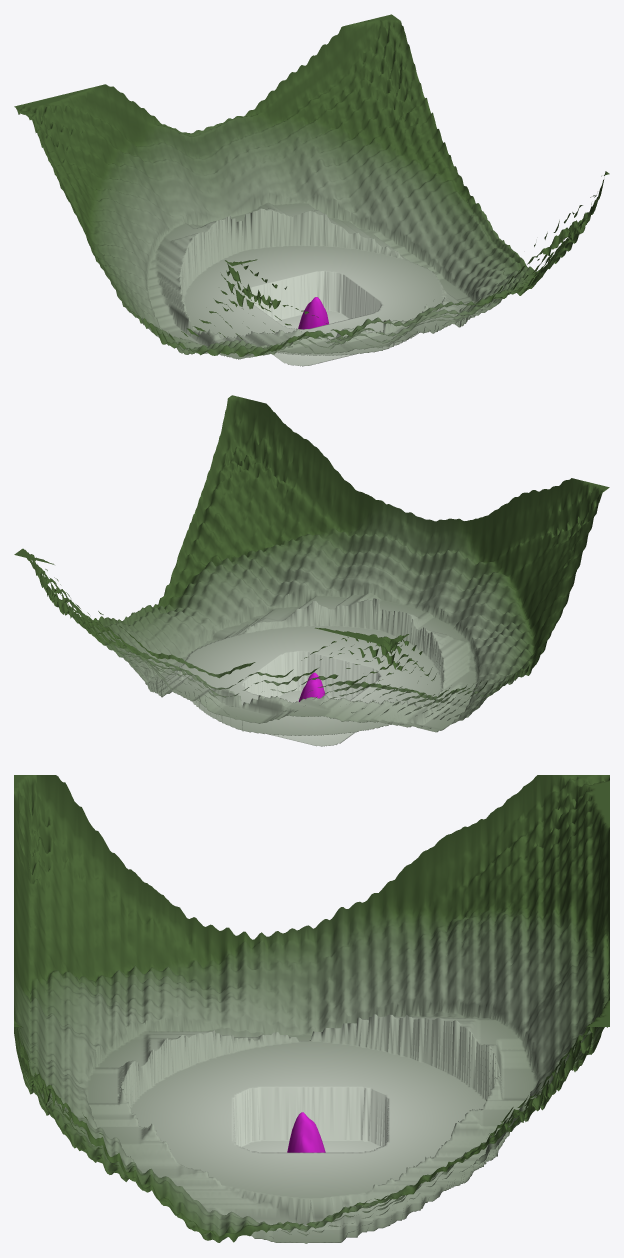
File: test_depthwizard_finetuned_mesh.glb
The picture shows the model from 3 angles, top to bottom: view 1: azimuth 30°, elevation 25°; view 2: azimuth 150°, elevation 25°; view 3: azimuth 270°, elevation 25°; orthographic projection. The views are drawn at different scales.
Visible parts, largest first — view 1: geometry_0; view 2: geometry_0; view 3: geometry_0.
Boxes of the visible parts, bbox=[...] form: geometry_0: bbox=[14, 14, 609, 366]; geometry_0: bbox=[14, 395, 609, 746]; geometry_0: bbox=[14, 775, 609, 1243].
Bounding box in the file's own units: 2 × 1 × 2.
